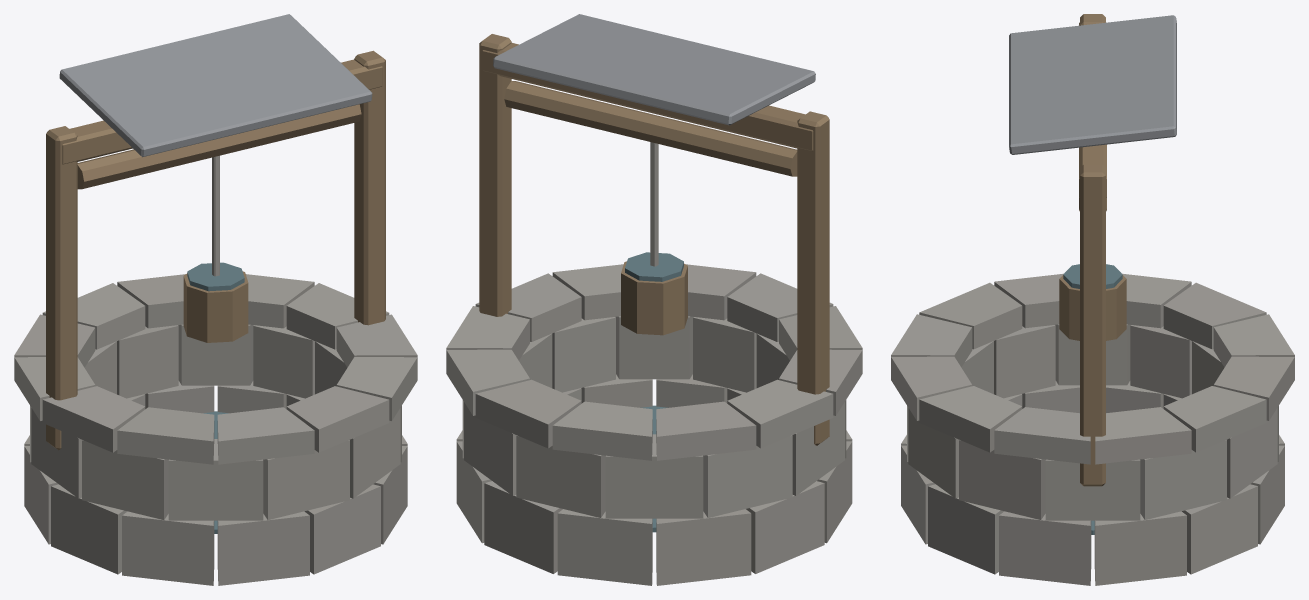
File: well.glb
3 renders of one model, left to right at view 1: azimuth 30°, elevation 25°; view 2: azimuth 150°, elevation 25°; view 3: azimuth 270°, elevation 25°, orthographic. The views are drawn at different scales.
Visible parts, largest first — view 1: well; view 2: well; view 3: well.
Part boxes in pixels (bbox=[...]): well: bbox=[14, 14, 417, 585]; well: bbox=[446, 14, 862, 585]; well: bbox=[891, 14, 1294, 585].
Size of the model in its own units: 2.04 by 2.42 by 2.04.
